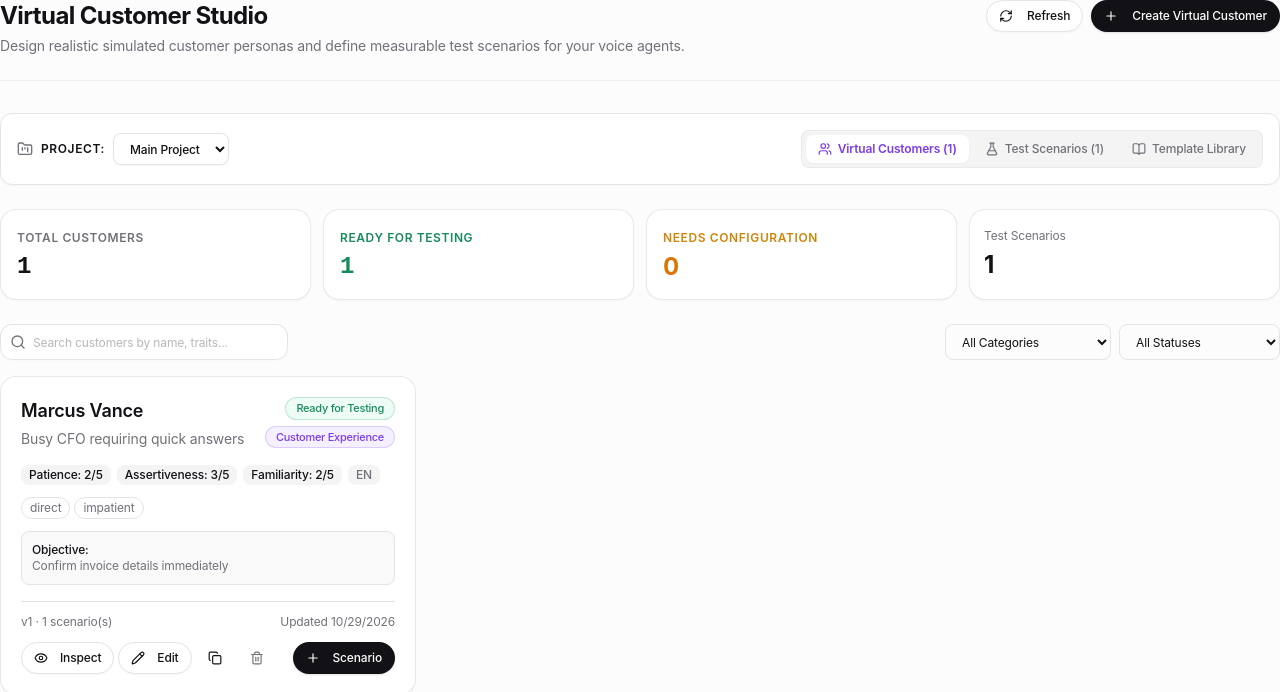
Test: VirtualCustomersPage Integration › fetches and renders project data and switches tabs
The width and height of the screenshot is (1280, 692).
Expected: the heading "Marcus Vance" is shown, [21, 400, 143, 421]
Expected: the heading "Virtual Customer Studio" is shown, [0, 1, 268, 30]
# Switch to Scenarios Tab
Click the button "Test Scenarios (1)": (1044, 149) [973, 135, 1116, 163]
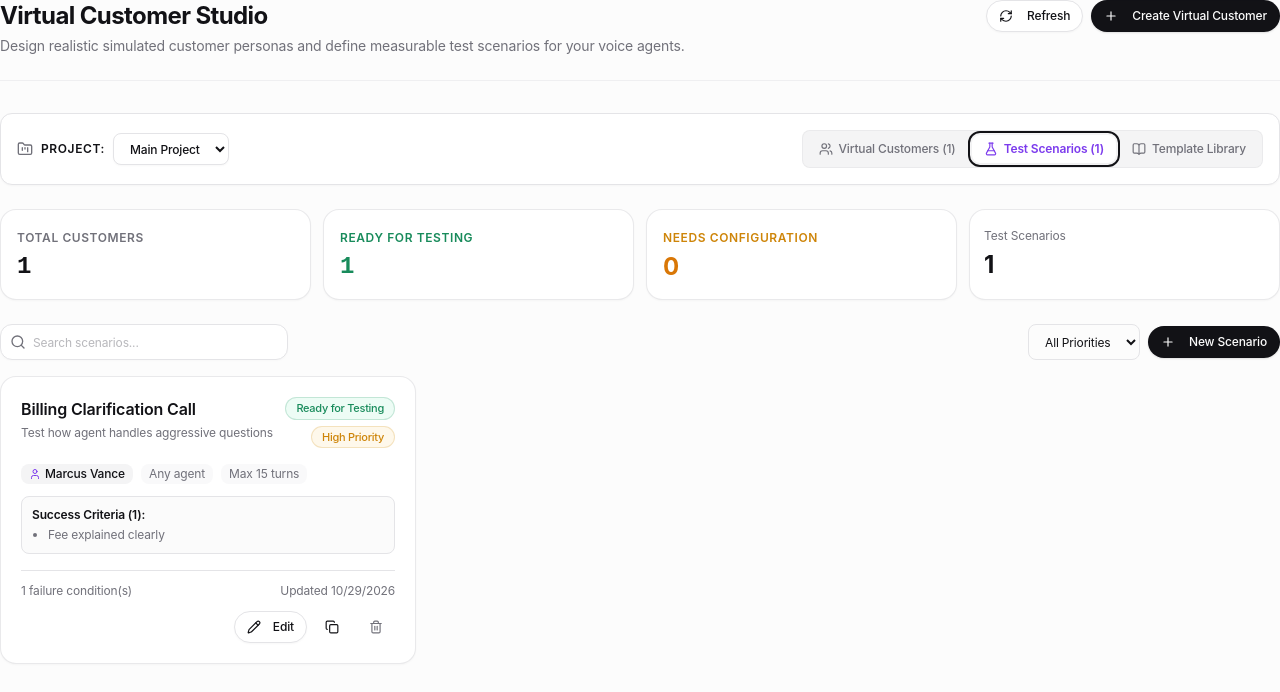
Now the heading "Billing Clarification Call" is shown, box [21, 399, 196, 419]
# Switch to Templates Tab
Click the button "Template Library": (1189, 149) [1120, 135, 1258, 163]
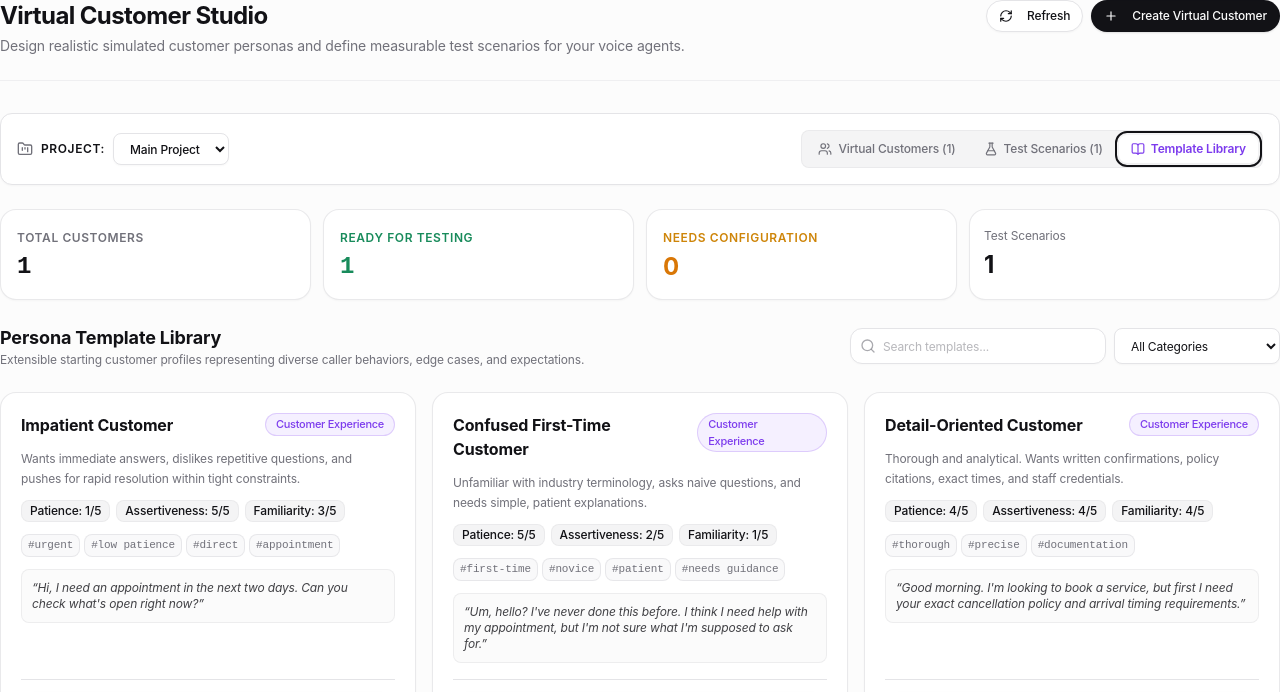
Now the heading "Persona Template Library" is shown, box [0, 327, 221, 348]
